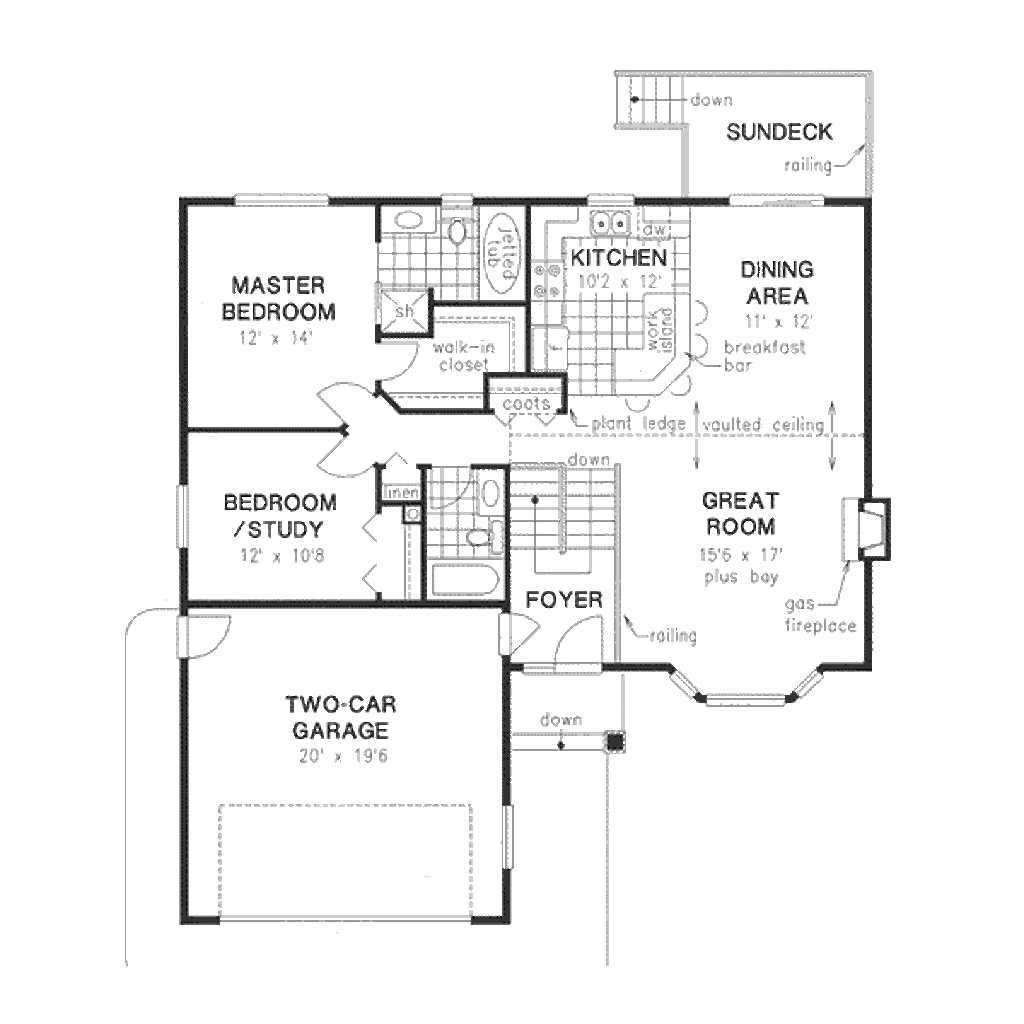door: (554, 608, 611, 682), (306, 376, 373, 435), (164, 609, 232, 660), (319, 433, 379, 490), (368, 336, 425, 387), (487, 612, 545, 657), (425, 460, 476, 511)
kitchen_bar: (618, 292, 711, 416)
large_sink: (465, 516, 514, 557), (438, 193, 472, 246)
small_sink: (465, 470, 513, 519), (378, 205, 438, 236)
stairs: (511, 463, 619, 595), (595, 55, 718, 146)
tub: (416, 555, 510, 601)
twin_sink: (586, 197, 630, 238)
window: (667, 663, 822, 709), (222, 185, 345, 219), (172, 468, 202, 551), (725, 189, 829, 212), (505, 801, 529, 866)
